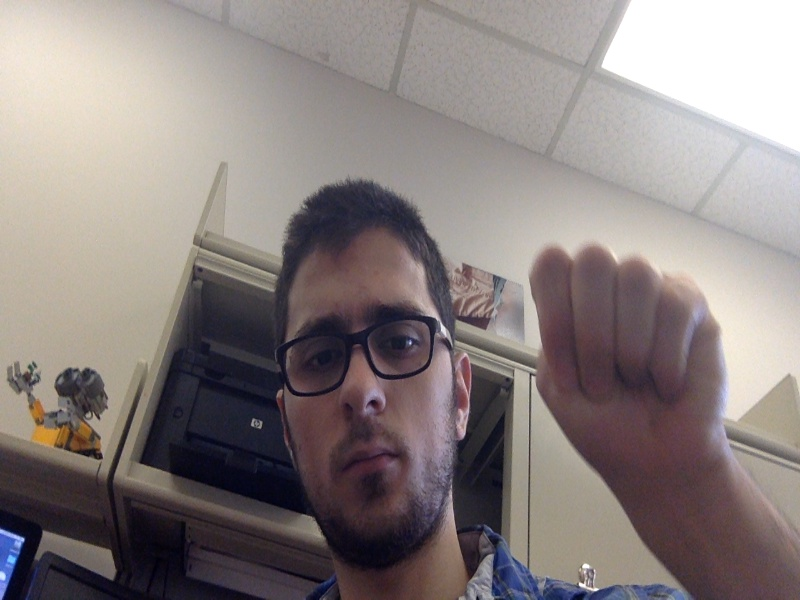0-hand: (530, 247, 725, 481)
